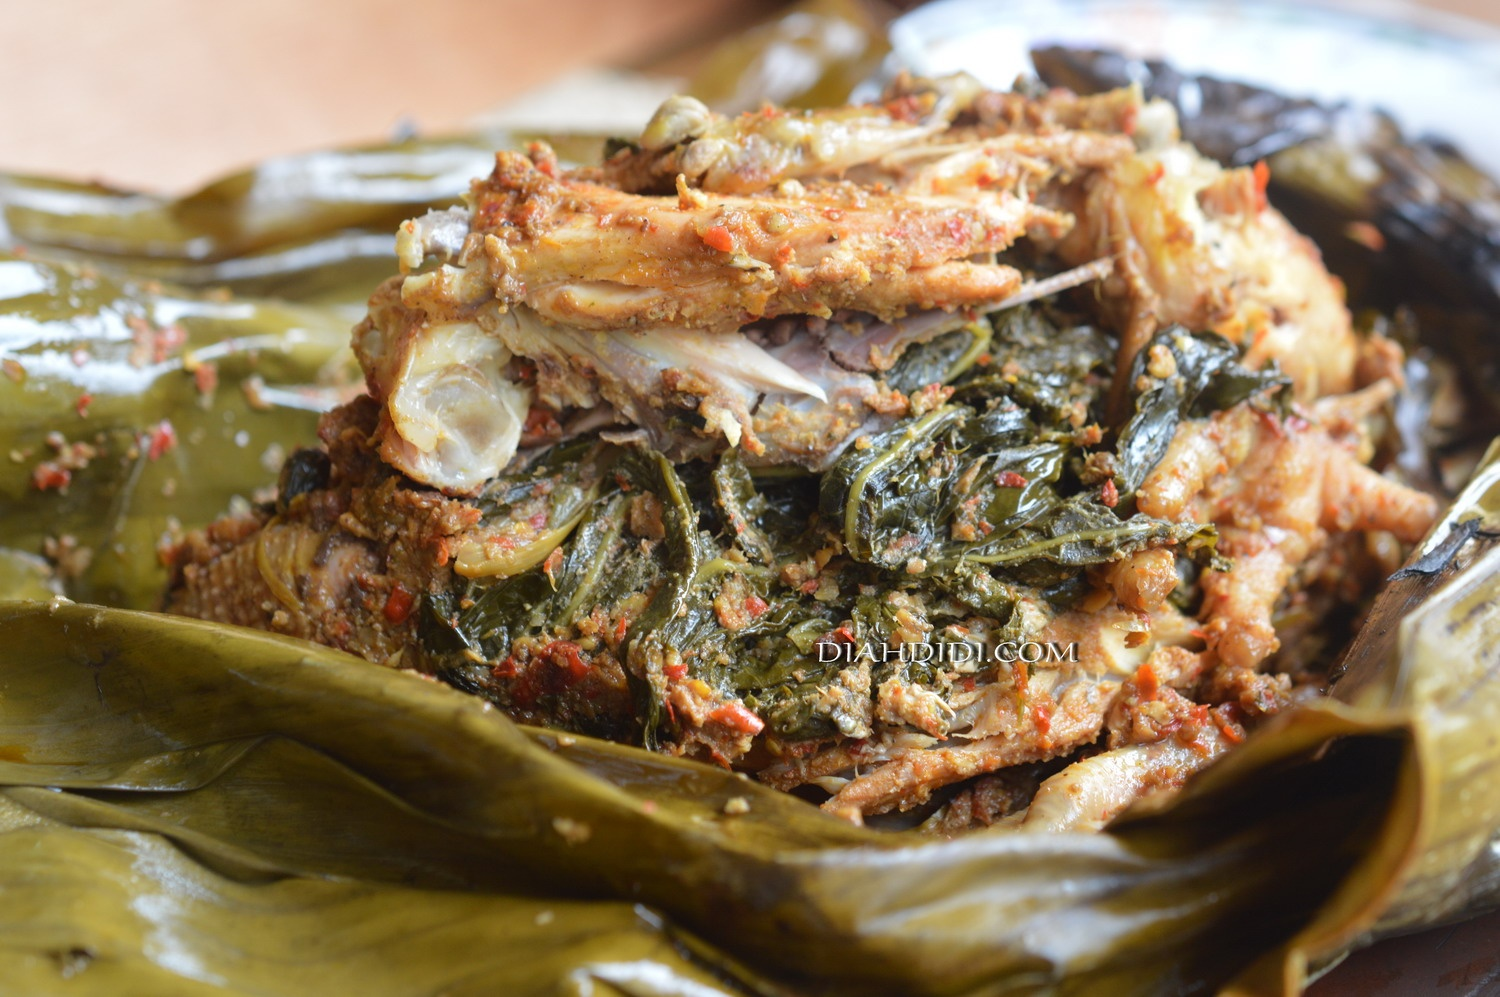ayam_betutu: (162, 76, 1437, 750)
